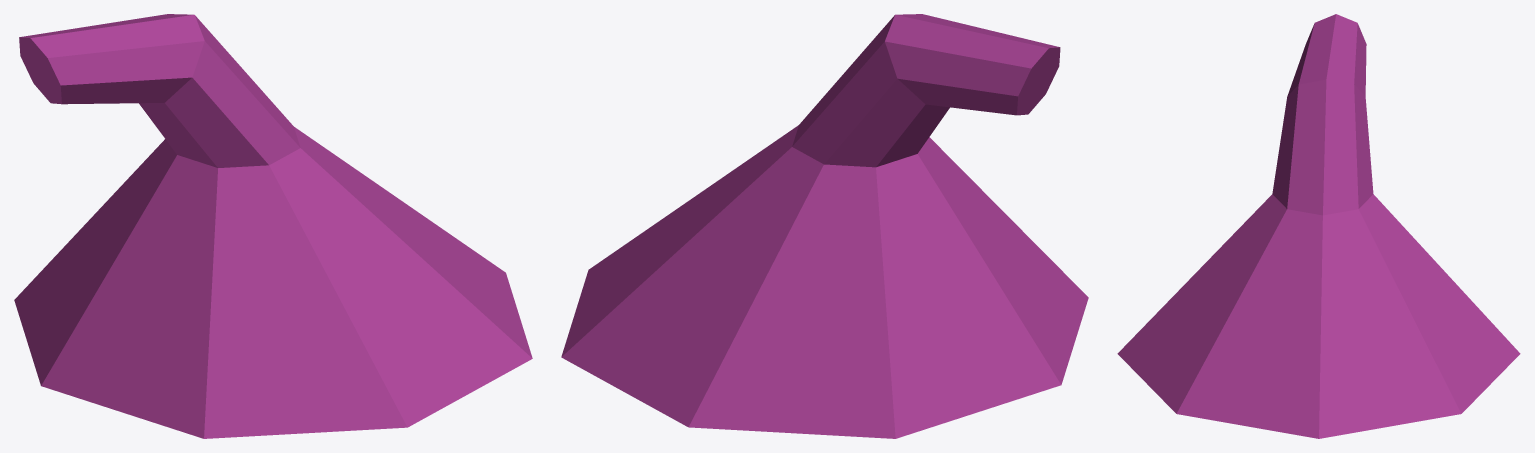
The model's file is SM_Env_Tree_Marsh_01_Collision.fbx.
The picture shows the model from 3 angles, left to right: view 1: azimuth 30°, elevation 25°; view 2: azimuth 150°, elevation 25°; view 3: azimuth 270°, elevation 25°; orthographic projection. The views are drawn at different scales.
Visible parts, largest first — view 1: SM_Env_Tree_Marsh_01_Collision; view 2: SM_Env_Tree_Marsh_01_Collision; view 3: SM_Env_Tree_Marsh_01_Collision.
Boxes of the visible parts, <box> form: SM_Env_Tree_Marsh_01_Collision: <box>14,14,532,438</box>; SM_Env_Tree_Marsh_01_Collision: <box>561,14,1088,438</box>; SM_Env_Tree_Marsh_01_Collision: <box>1117,14,1520,438</box>.
Bounding box in the file's own units: 622 × 434 × 622.
